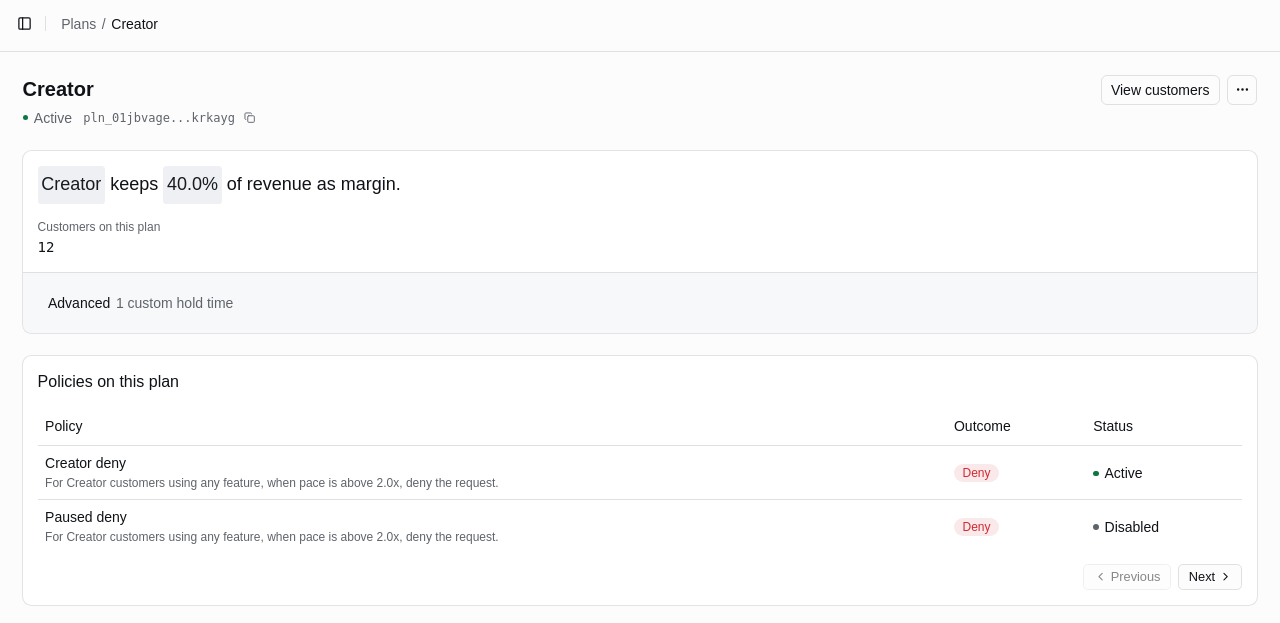
Test case: Policies on this plan lists the plan's policies page by page with their sentence
Expected: the text "For Creator customers using any feature, when pace is above 2.0x, deny the request." below "Creator deny" is shown, [45, 476, 499, 490]
Expected: the icon "Deny" in the row of "Creator deny" is shown, [962, 466, 990, 480]
Click the button "Next": (1210, 577) [1178, 564, 1242, 590]
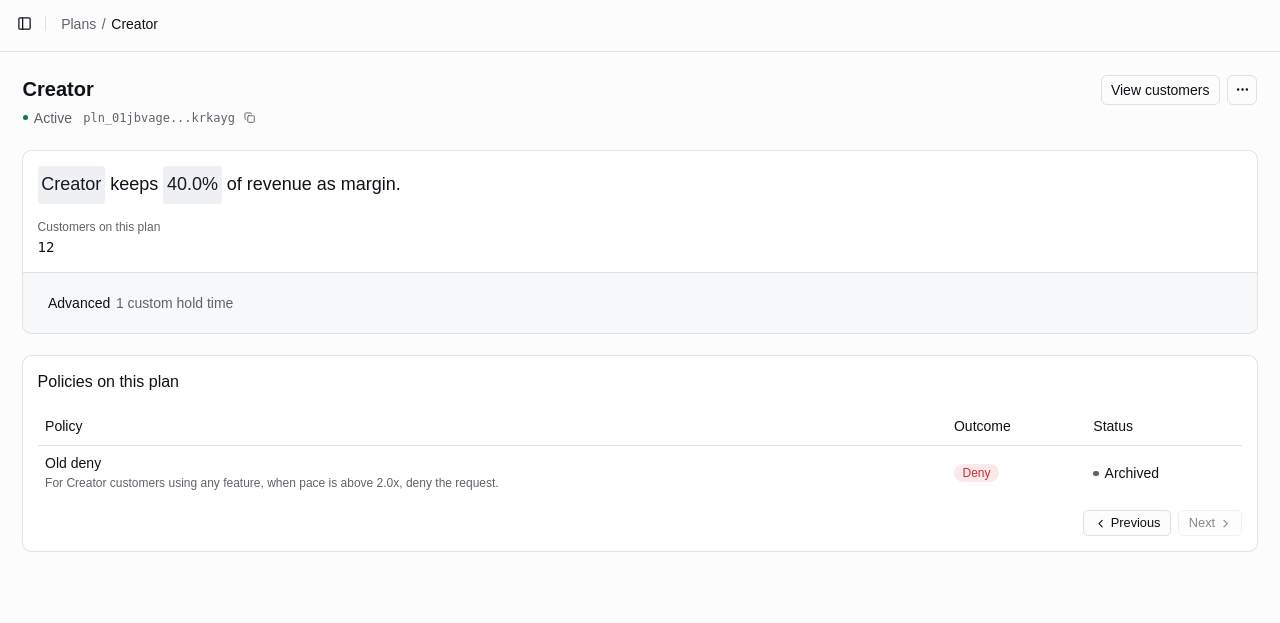
Expected: the text "Old deny" is shown, [45, 455, 101, 471]
Expected: the text "Archived" is shown, [1093, 463, 1159, 483]
